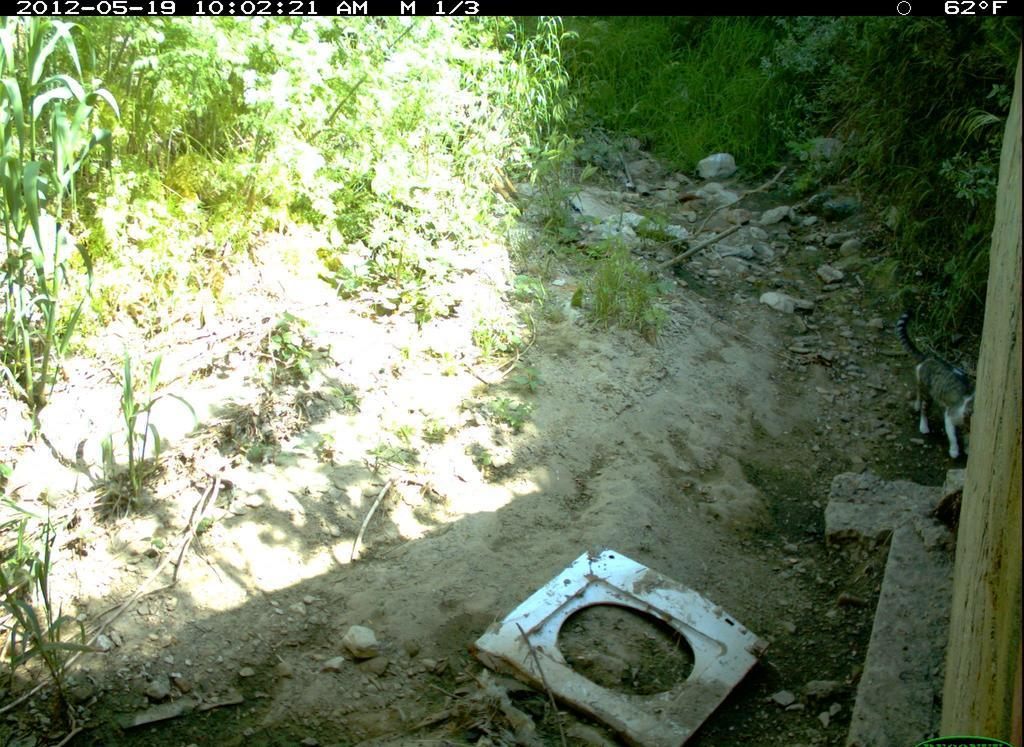cat: (893, 305, 978, 463)
